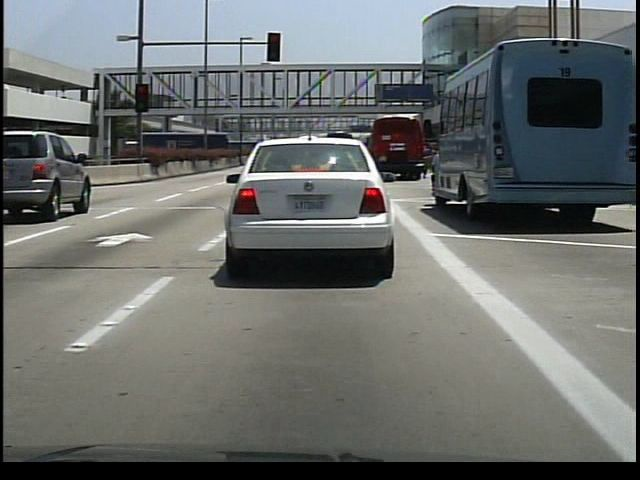person: (425, 138, 437, 178)
